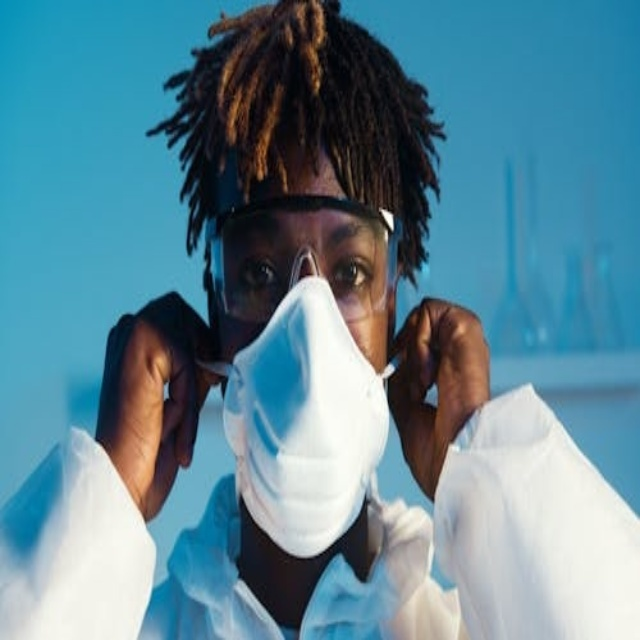Gafas: (207, 195, 401, 335)
Mascara: (211, 272, 395, 558)
Sin_guantes: (95, 296, 218, 529), (384, 295, 492, 503)
